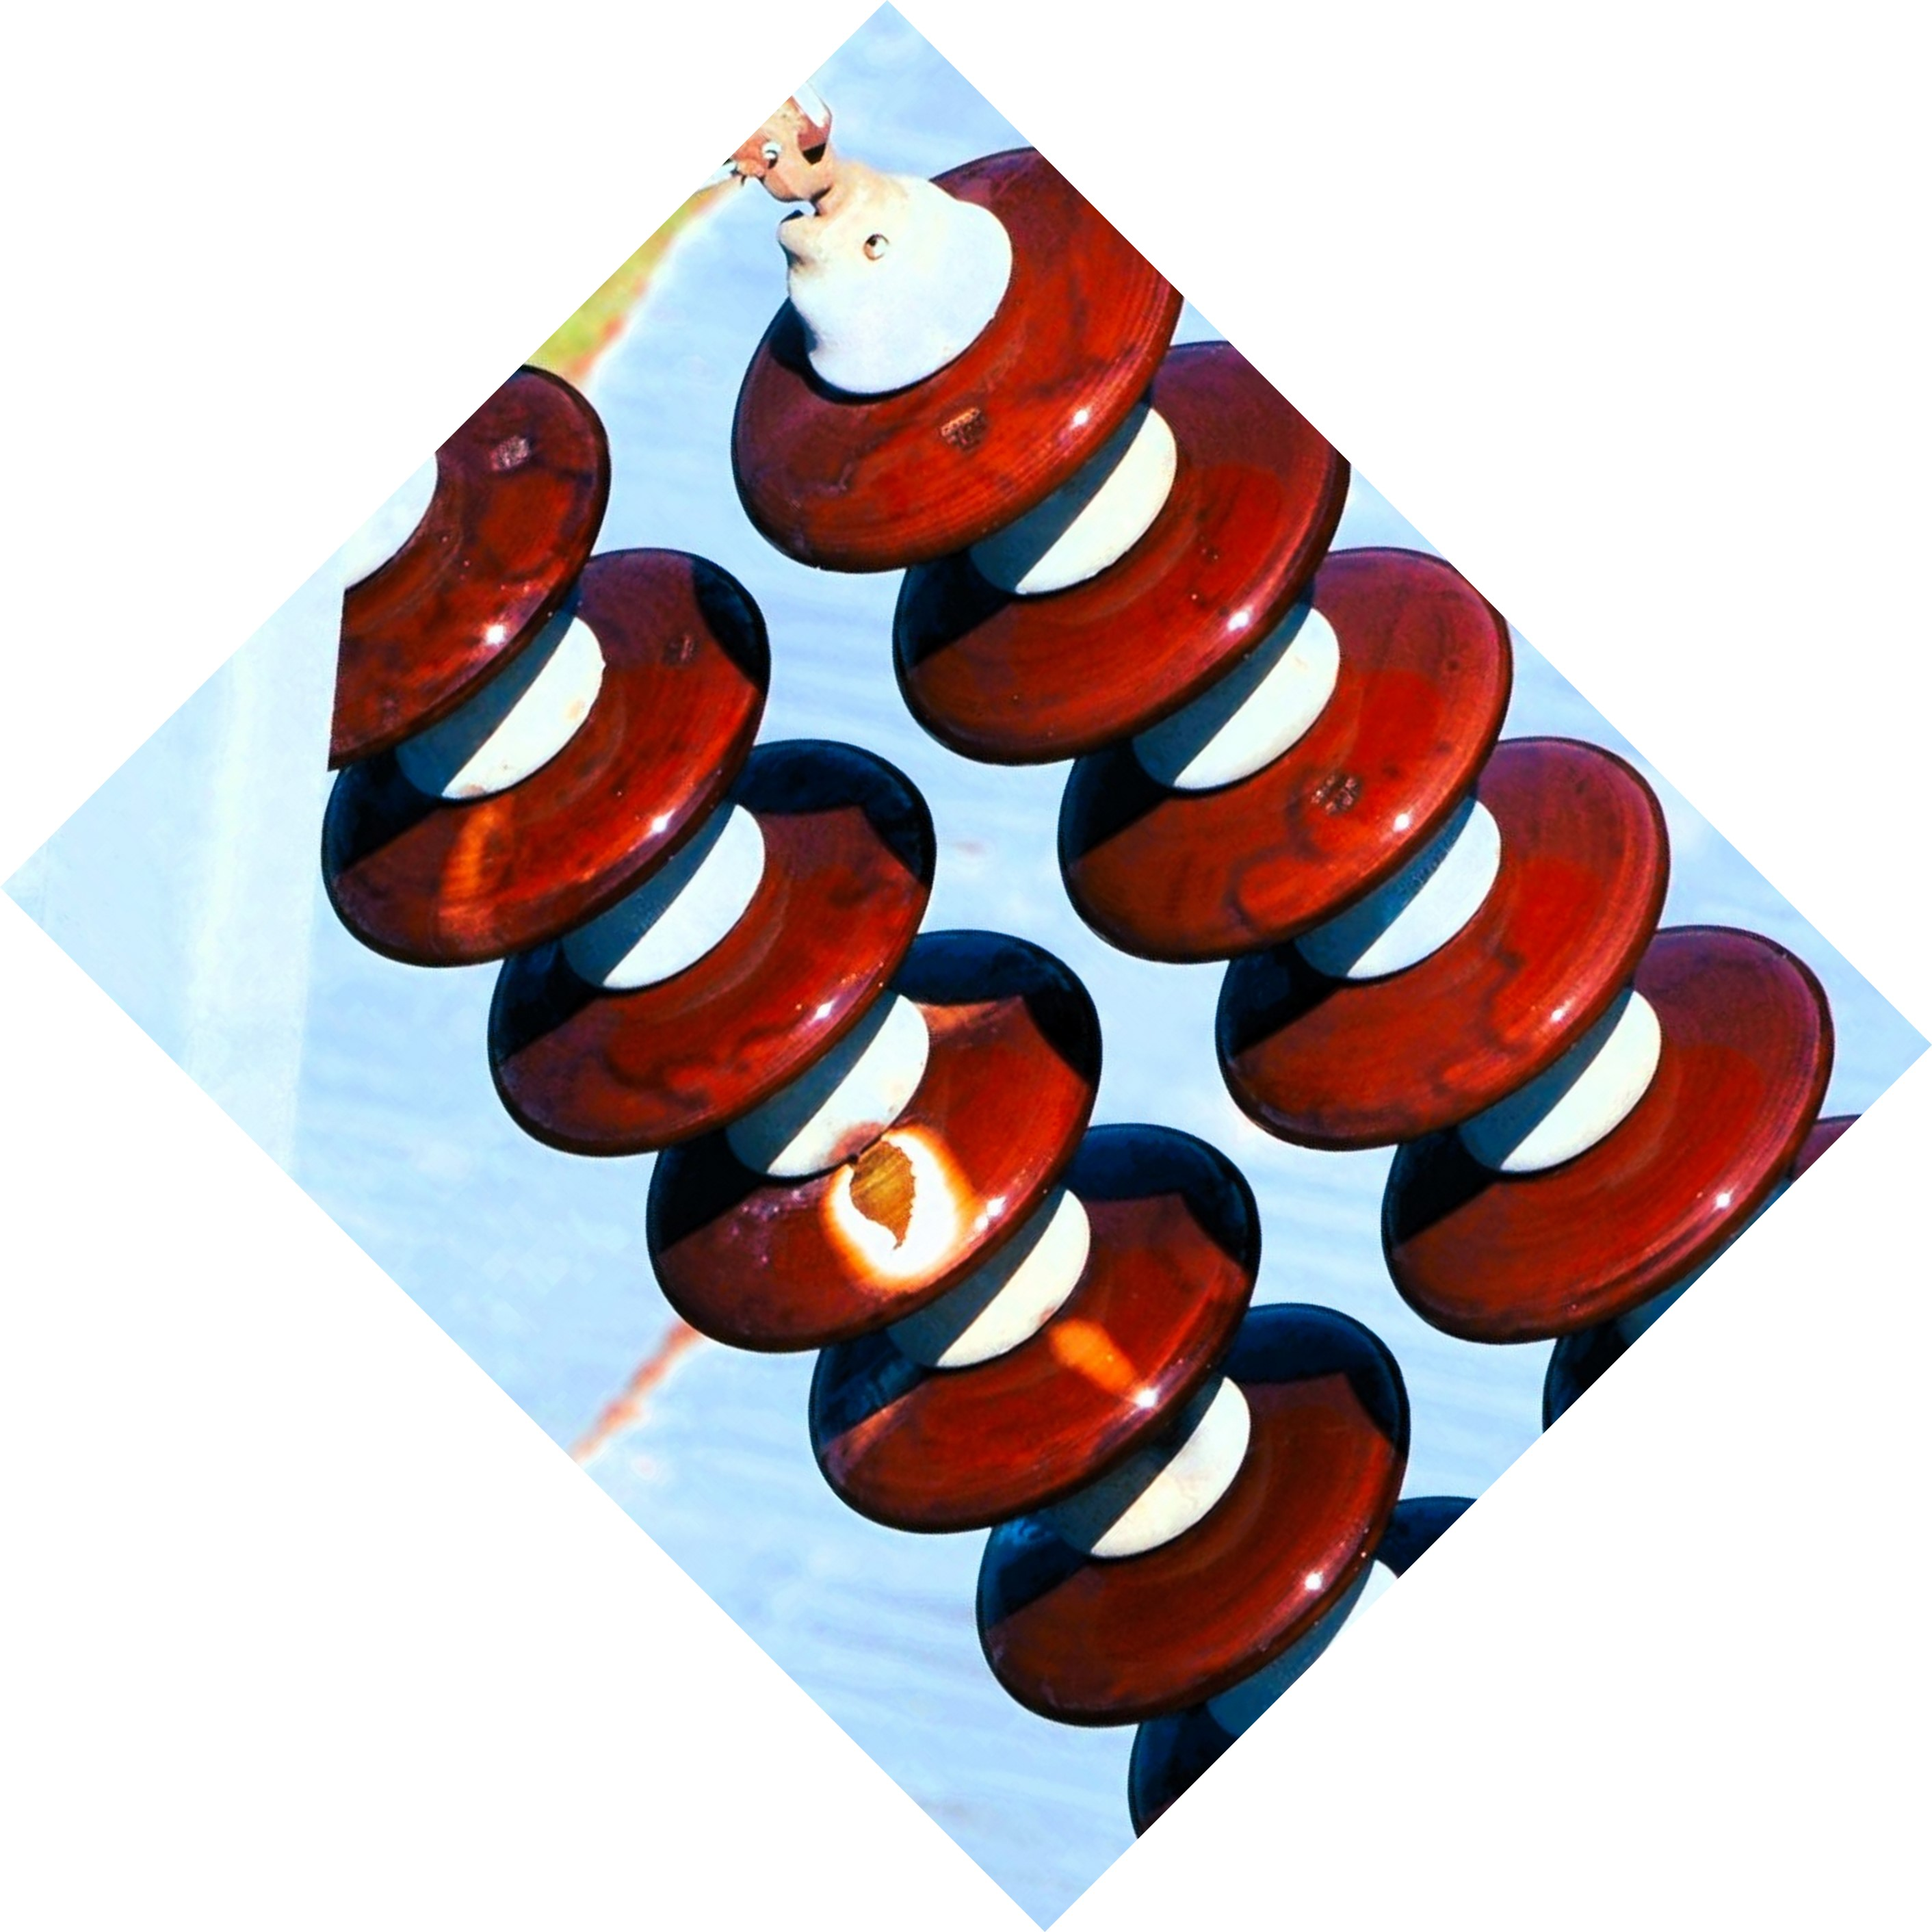Insulator flashover: (586, 906, 1125, 1364)
